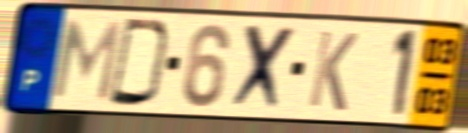1: (389, 26, 421, 121)
6: (180, 21, 231, 110)
D: (106, 15, 175, 110)
K: (305, 27, 361, 115)
M: (48, 18, 125, 105)
X: (226, 21, 300, 116)
